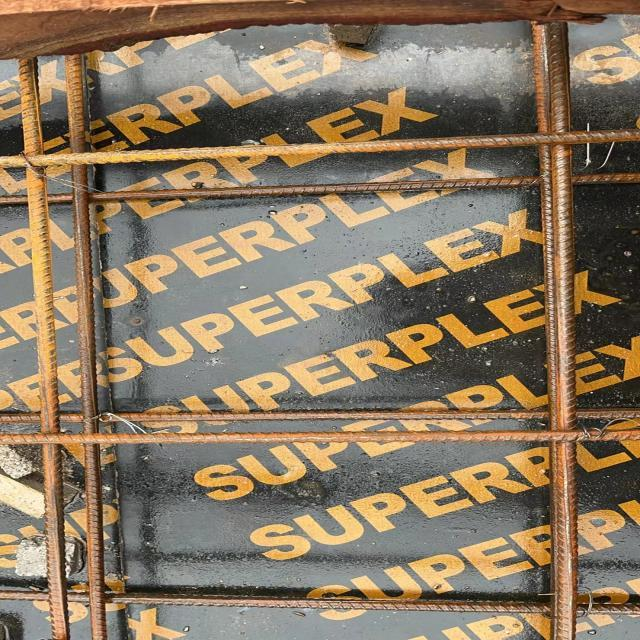ribbed bar: (16, 57, 71, 640), (528, 19, 577, 640), (63, 52, 108, 639), (0, 129, 639, 167), (0, 171, 639, 207), (0, 589, 639, 615), (0, 407, 639, 423), (0, 429, 639, 445)
